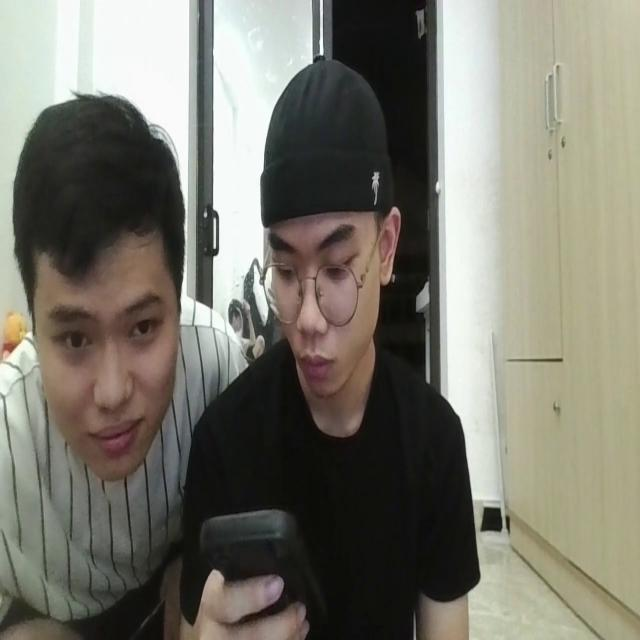extra_person: (0, 79, 202, 640)
phone: (190, 486, 316, 636)
student: (181, 50, 471, 640)
